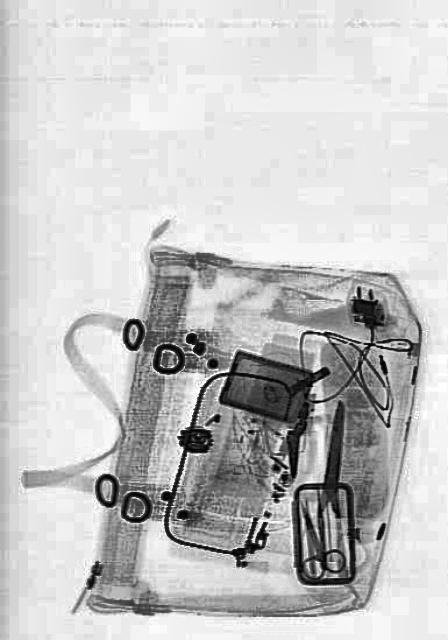Scissors: (284, 489, 346, 585)
